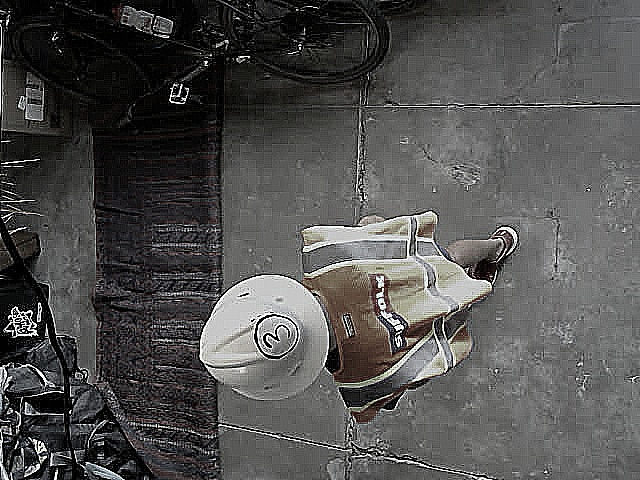three: (253, 312, 299, 358)
